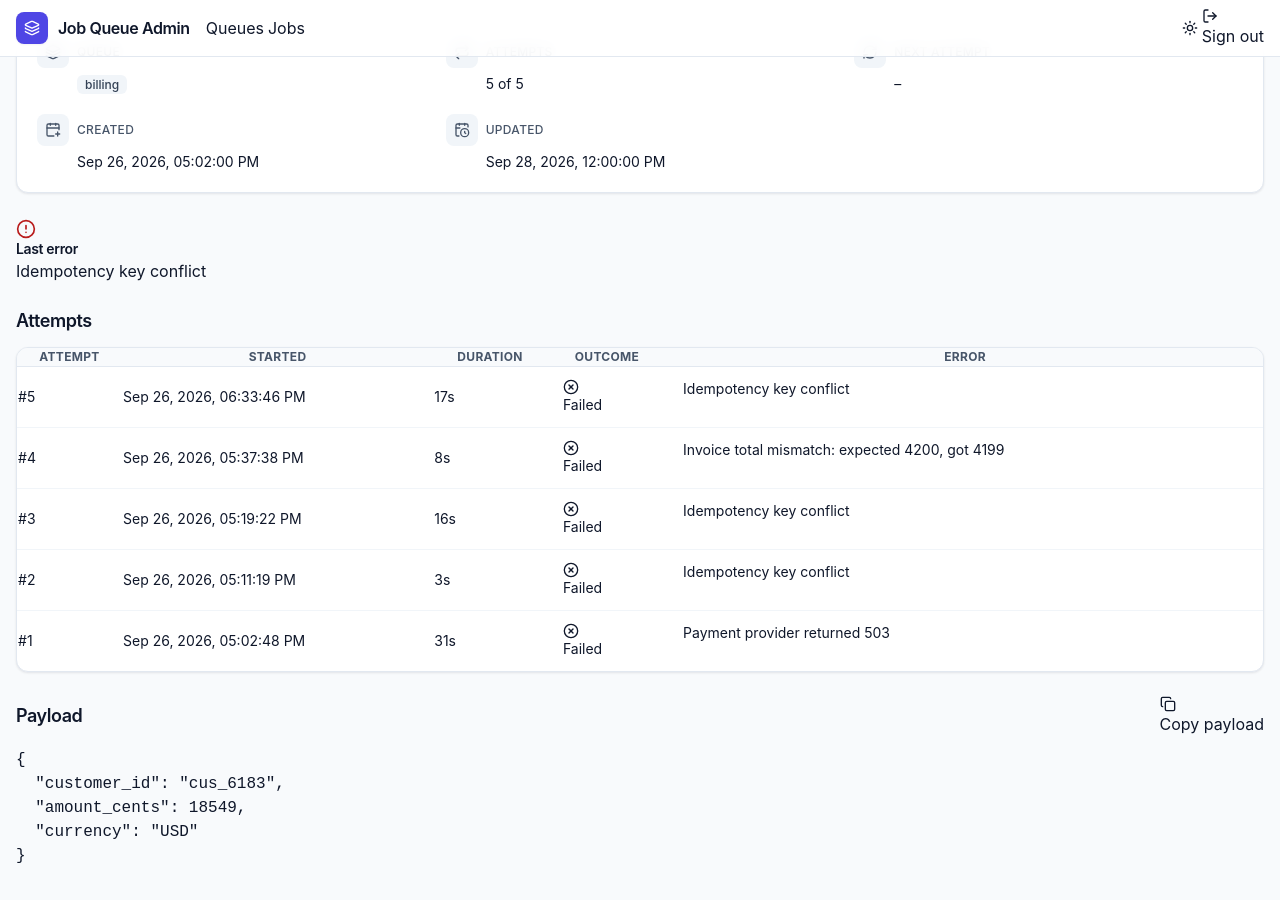
Test: copy payload fallback › says so when copying is impossible
(page scrolled)
Click the button "Copy payload".
click(1212, 716)  # box left=1160, top=696, right=1264, bottom=736
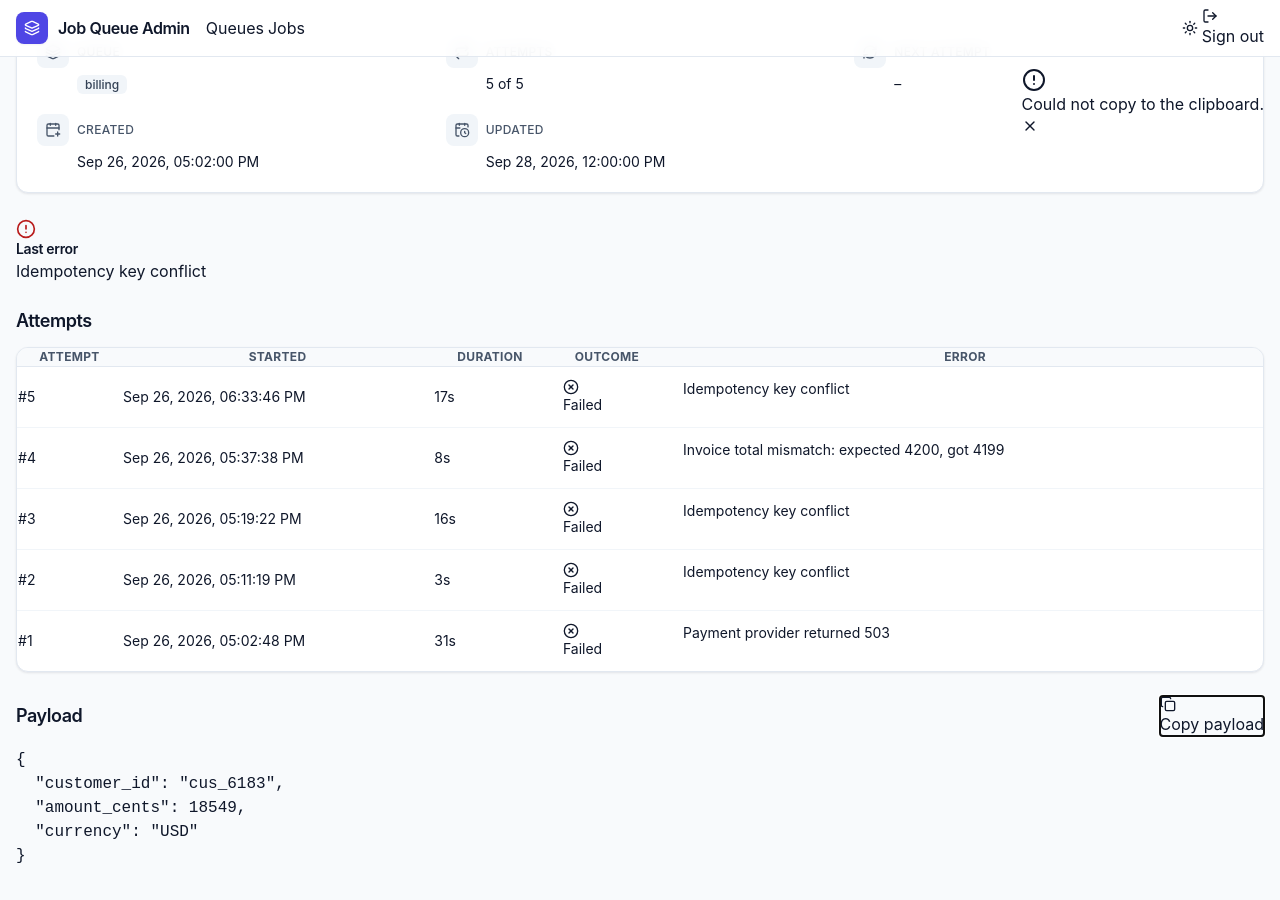
Now the message shows "Could not copy", box left=1022, top=94, right=1264, bottom=114
